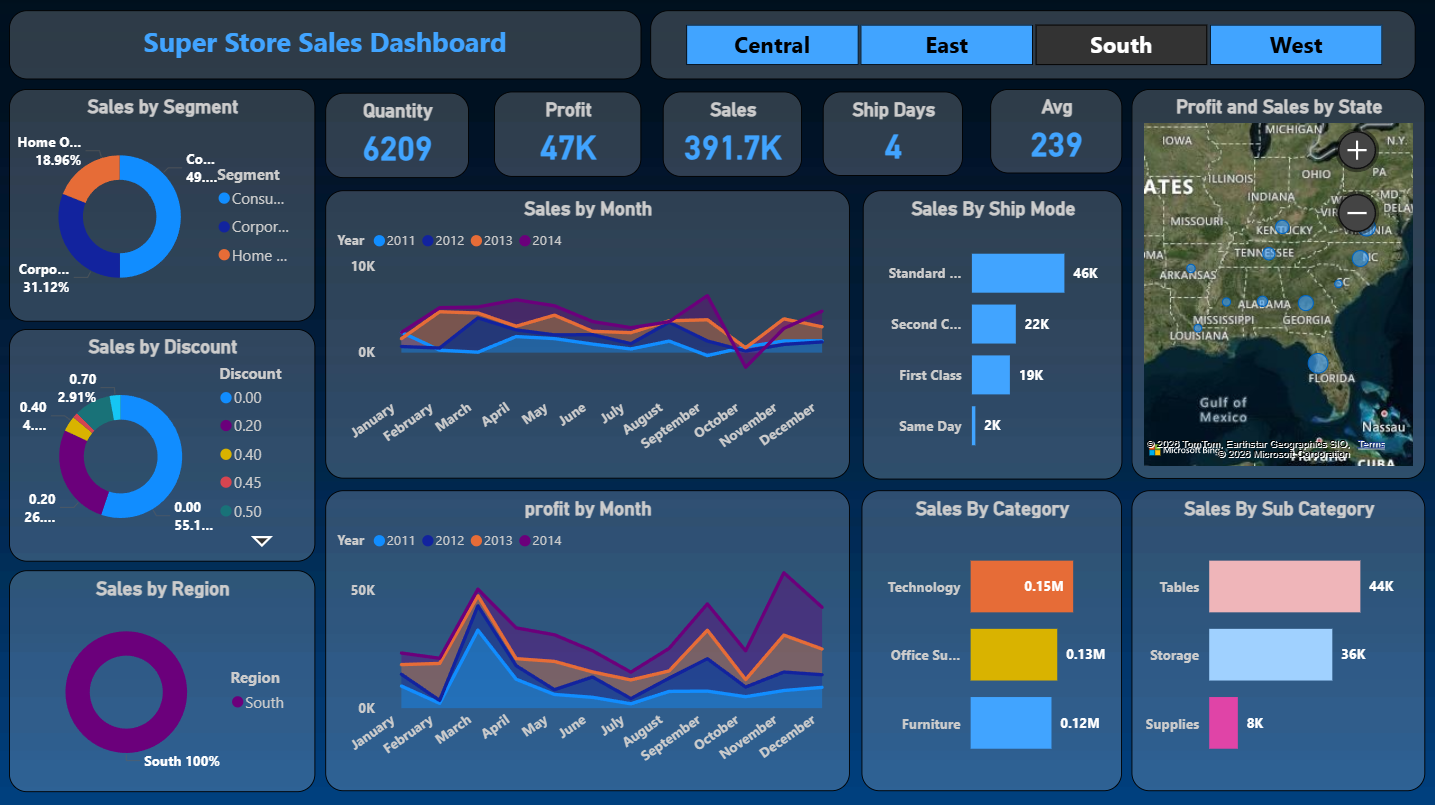

What the dashboard file says about the page in this screenshot:
{"tool":"powerbi","page":{"name":"Page 1","canvas":[1280,720],"ordinal":0},"visuals":[{"type":"clusteredBarChart","title":" Sales By Category","fields":{"Category":["Superstore.Category"],"Y":["Sum(Superstore.Sales)"]},"box":[768.5,437.9,231.6,267.8],"z":0},{"type":"clusteredBarChart","title":" Sales By Sub Category","fields":{"Category":["Superstore.Sub-Category"],"Y":["Sum(Superstore.Sales)"]},"box":[1008.6,437.9,261.8,267.8],"z":1000},{"type":"clusteredBarChart","title":" Sales By Ship Mode","fields":{"Category":["Superstore.Ship Mode"],"Y":["Sum(Superstore.Sales)"]},"box":[768.8,170,231.2,257.5],"z":2000},{"type":"stackedAreaChart","title":"profit by Month ","fields":{"Category":["Superstore.Order Date.Variation.Date Hierarchy.Month"],"Y":["Sum(Superstore.Sales)"],"Series":["Superstore.Order Date.Variation.Date Hierarchy.Year"]},"box":[290.8,437.9,466.9,267.8],"z":3000},{"type":"stackedAreaChart","title":"Sales by Month ","fields":{"Category":["Superstore.Order Date.Variation.Date Hierarchy.Month"],"Series":["Superstore.Order Date.Variation.Date Hierarchy.Year"],"Y":["Sum(Superstore.Profit)"]},"box":[290.8,170.1,466.9,257],"z":4000},{"type":"map","title":"Profit and Sales by State","fields":{"Category":["Superstore.State"],"Size":["Sum(Superstore.Sales)"]},"box":[1008.6,79.6,261.8,347.5],"z":5000},{"type":"donutChart","title":"Sales by Segment","fields":{"Category":["Superstore.Segment"],"Y":["Sum(Superstore.Sales)"]},"box":[8.4,79.6,272.7,207.5],"z":6000},{"type":"donutChart","title":" Sales by Discount","fields":{"Y":["Sum(Superstore.Sales)"],"Series":["Superstore.Discount"]},"box":[8.8,293.8,272.5,207.5],"z":7000},{"type":"slicer","fields":{"Values":["Superstore.Region"]},"box":[580.3,9.7,681.6,61.5],"z":8000},{"type":"textbox","box":[8.4,9.7,563.4,61.5],"z":9000},{"type":"card","title":"Sales","fields":{"Values":["Sum(Superstore.Sales)"]},"box":[591.2,82,124.3,76],"z":10000},{"type":"card","title":"Quantity","fields":{"Values":["Sum(Superstore.Quantity)"]},"box":[290.8,83.2,127.9,76],"z":11000},{"type":"card","title":"Profit","fields":{"Values":["Sum(Superstore.Profit)"]},"box":[440.4,82,131.5,76],"z":12000},{"type":"card","title":"Ship Days","fields":{"Values":["Avg(Superstore.Average Delivery)"]},"box":[733.8,82.5,125,75],"z":13000},{"type":"donutChart","title":" Sales by Region","fields":{"Category":["Superstore.Region"],"Y":["Sum(Superstore.Sales)"]},"box":[8.8,508.8,272.5,197.5],"z":14000},{"type":"card","title":"Avg","fields":{"Values":["Sum(Superstore.Discount)"]},"box":[882.5,80,117.5,75],"z":15000}]}

Visuals, with their boxes in screenshot pixels (x1, y1, x2, y2), scaled from the page's 1280x720 canvas onto the 1435x805 screenshot:
" Sales By Category" clusteredBarChart: l=862, t=490, r=1121, b=789
" Sales By Sub Category" clusteredBarChart: l=1131, t=490, r=1424, b=789
" Sales By Ship Mode" clusteredBarChart: l=862, t=190, r=1121, b=478
"profit by Month " stackedAreaChart: l=326, t=490, r=849, b=789
"Sales by Month " stackedAreaChart: l=326, t=190, r=849, b=478
"Profit and Sales by State" map: l=1131, t=89, r=1424, b=478
"Sales by Segment" donutChart: l=9, t=89, r=315, b=321
" Sales by Discount" donutChart: l=10, t=328, r=315, b=560
slicer - Superstore.Region: l=651, t=11, r=1415, b=80
textbox: l=9, t=11, r=641, b=80
"Sales" card: l=663, t=92, r=802, b=177
"Quantity" card: l=326, t=93, r=469, b=178
"Profit" card: l=494, t=92, r=641, b=177
"Ship Days" card: l=823, t=92, r=963, b=176
" Sales by Region" donutChart: l=10, t=569, r=315, b=790
"Avg" card: l=989, t=89, r=1121, b=173
